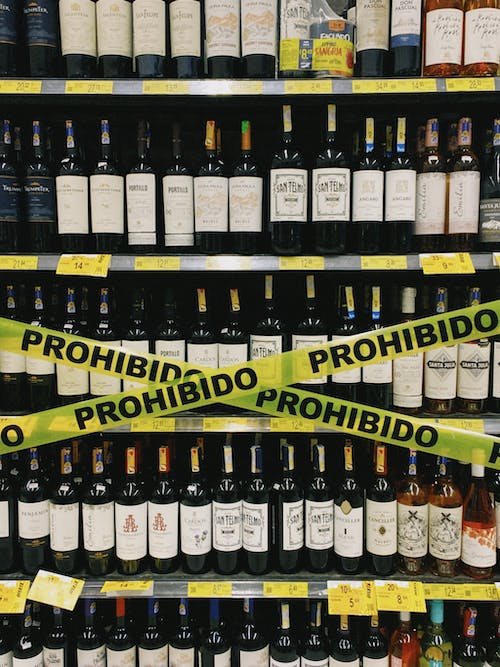alcohol: (266, 102, 310, 255), (310, 102, 353, 255), (123, 119, 163, 254), (88, 117, 127, 254), (288, 272, 330, 397), (53, 117, 91, 254), (461, 446, 499, 582), (192, 119, 229, 255), (229, 119, 266, 255), (413, 116, 449, 253), (445, 116, 481, 252), (22, 117, 57, 254), (383, 114, 417, 255), (351, 110, 384, 255), (429, 447, 464, 579), (161, 120, 195, 255), (179, 444, 214, 575), (396, 447, 431, 577), (81, 446, 115, 579), (365, 442, 398, 577), (458, 285, 492, 416), (55, 283, 90, 409), (392, 283, 425, 416), (251, 272, 289, 387), (425, 285, 458, 416), (19, 447, 52, 575), (116, 445, 148, 577), (330, 275, 362, 406), (148, 446, 180, 575), (49, 447, 81, 575), (211, 444, 242, 575), (304, 444, 335, 575), (243, 445, 274, 575), (121, 284, 157, 394), (362, 281, 392, 413), (275, 444, 304, 575), (335, 444, 364, 574), (309, 0, 356, 79), (26, 285, 55, 413), (90, 284, 121, 399), (0, 285, 27, 413), (20, 0, 62, 78), (423, 0, 465, 78), (168, 0, 209, 78), (239, 0, 279, 79), (132, 0, 172, 78), (204, 0, 244, 78), (0, 116, 22, 254), (278, 0, 316, 79), (478, 116, 500, 252), (59, 0, 97, 78), (96, 0, 134, 78), (463, 0, 500, 78), (355, 0, 391, 78), (186, 285, 219, 369), (153, 284, 188, 363), (390, 0, 424, 78), (219, 285, 250, 370), (197, 597, 233, 667), (235, 598, 270, 667), (105, 597, 139, 667), (137, 597, 170, 667), (0, 454, 19, 575), (12, 601, 46, 667), (76, 598, 108, 667), (453, 606, 487, 667), (42, 606, 75, 667), (423, 600, 453, 667), (271, 598, 300, 667), (169, 598, 197, 667), (302, 598, 329, 667), (390, 612, 422, 667), (330, 615, 361, 667), (0, 0, 20, 78), (362, 615, 389, 667), (492, 284, 500, 416)
